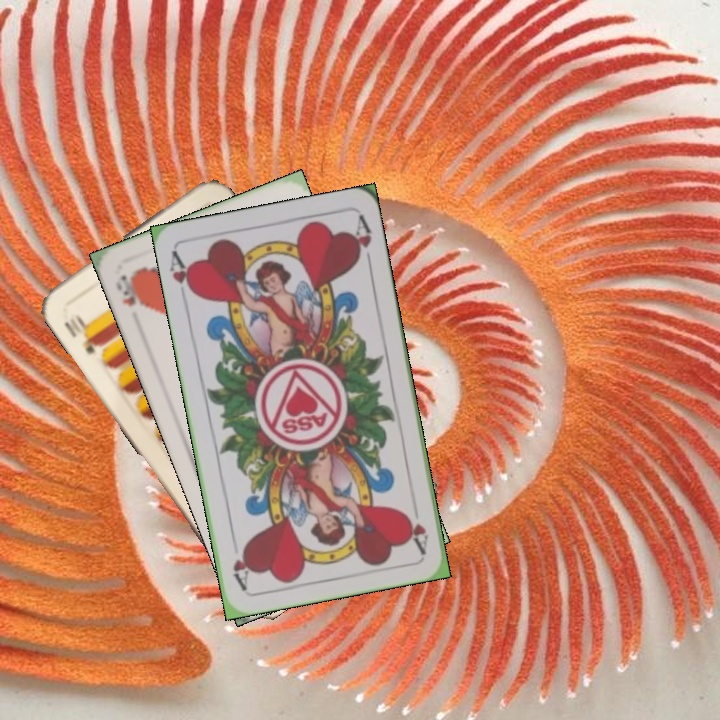E10: (59, 310, 104, 357)
HA: (165, 247, 198, 306), (402, 496, 431, 556)
HO: (111, 270, 148, 313)
